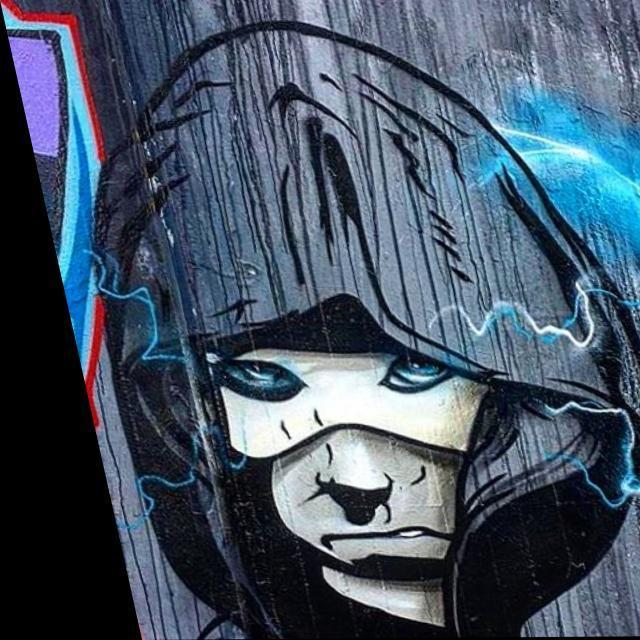-: (51, 51, 640, 640)
